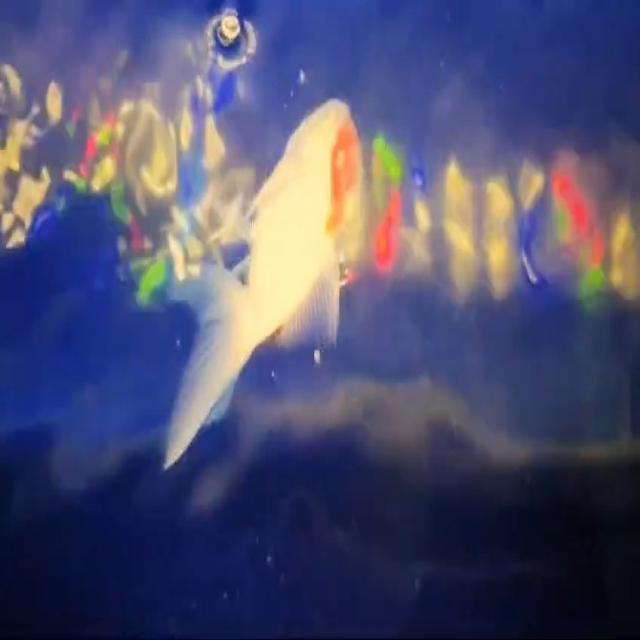fish: (162, 90, 378, 470)
